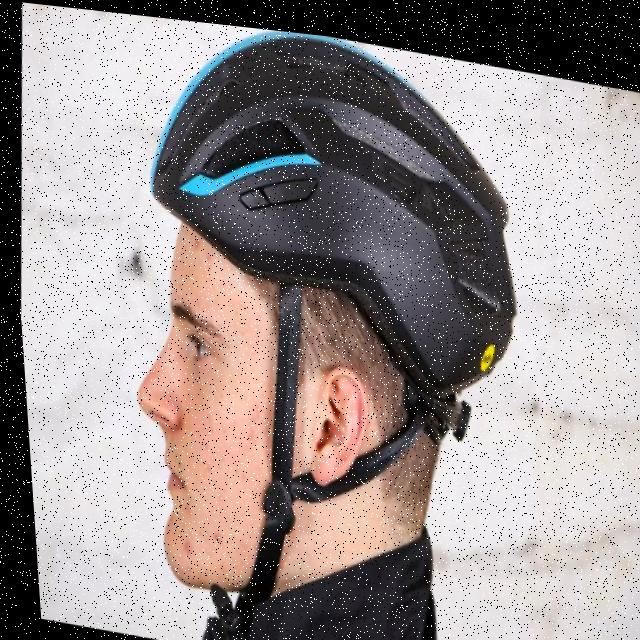illegal_helmet: (93, 8, 557, 640)
